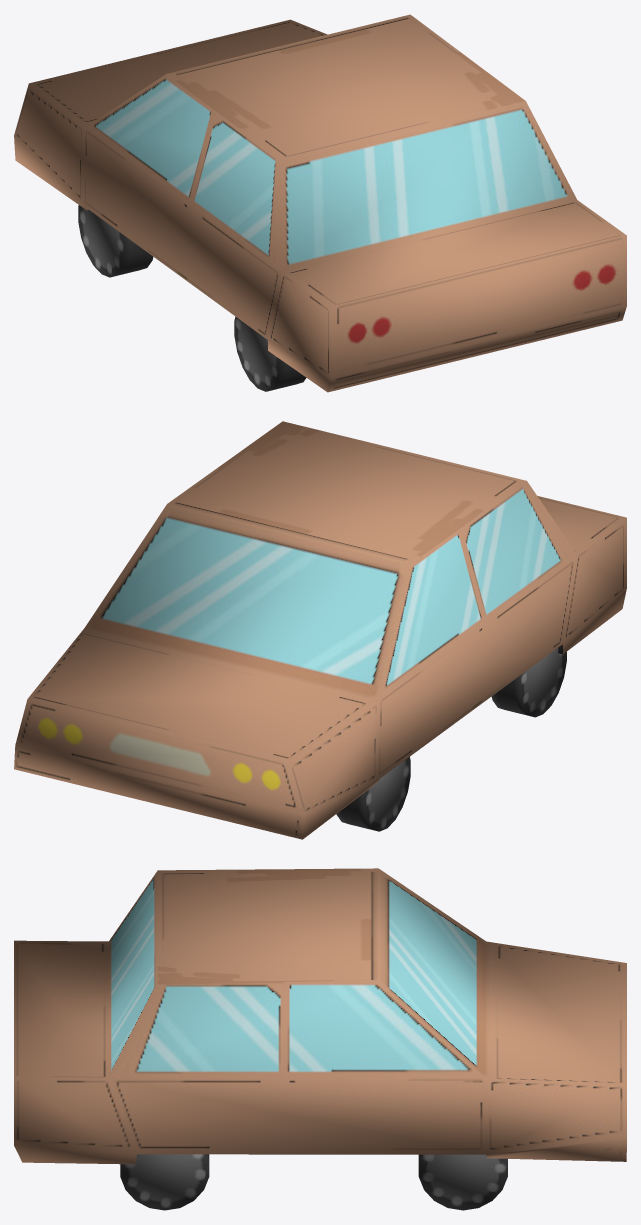
File: car.obj
The picture shows the model from 3 angles, top to bottom: view 1: azimuth 30°, elevation 25°; view 2: azimuth 150°, elevation 25°; view 3: azimuth 270°, elevation 25°; orthographic projection. The views are drawn at different scales.
Visible parts, largest first — view 1: Box001; view 2: Box001; view 3: Box001.
Part boxes in pixels (bbox=[...]): Box001: bbox=[14, 14, 626, 392]; Box001: bbox=[14, 421, 626, 839]; Box001: bbox=[14, 868, 626, 1210].
Size of the model in its own units: 40.47 by 29.85 by 76.2.
